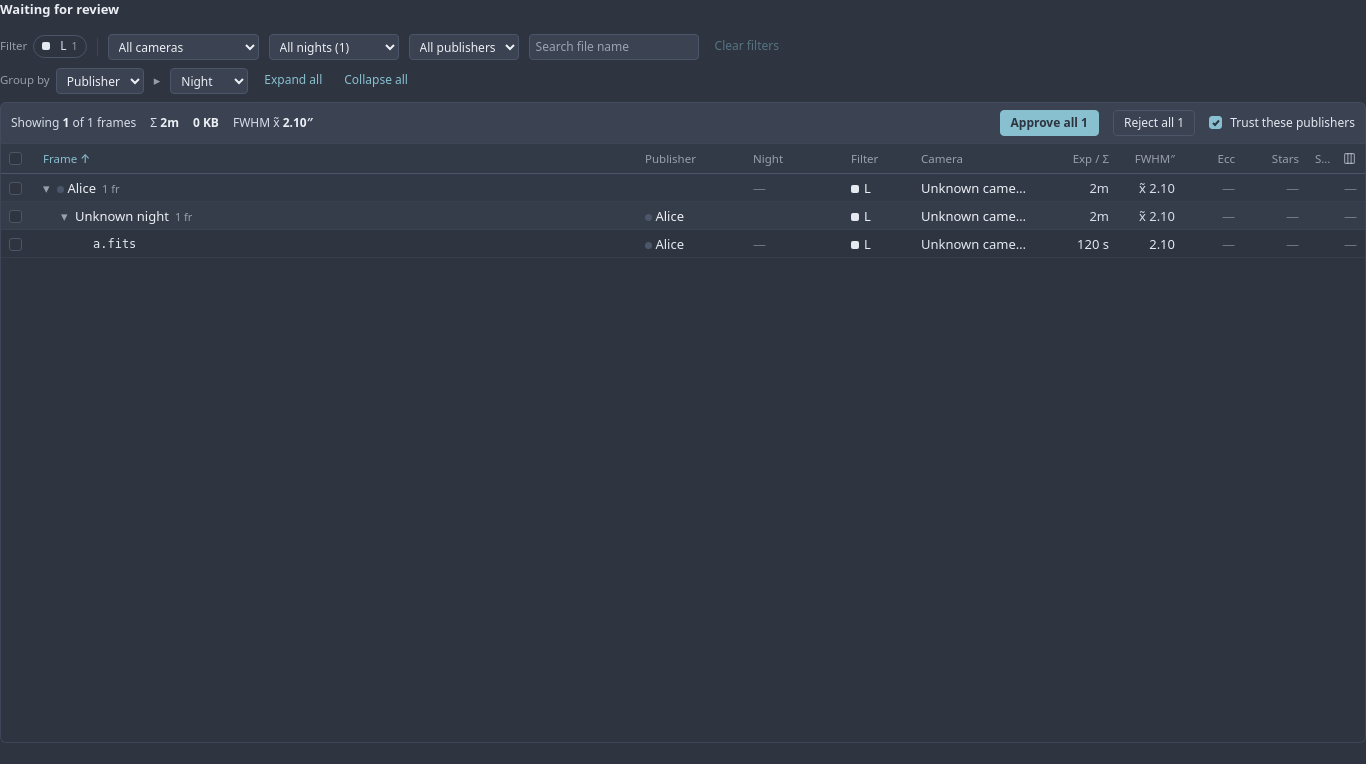
ModerationTab — mockup layout › reject opens a DialogShell dialog whose reason field takes the initial focus
This screenshot has width=1366, height=764.
Step 1. Click the button "Reject all 1" → x=1154, y=123, box [1113, 110, 1195, 136]
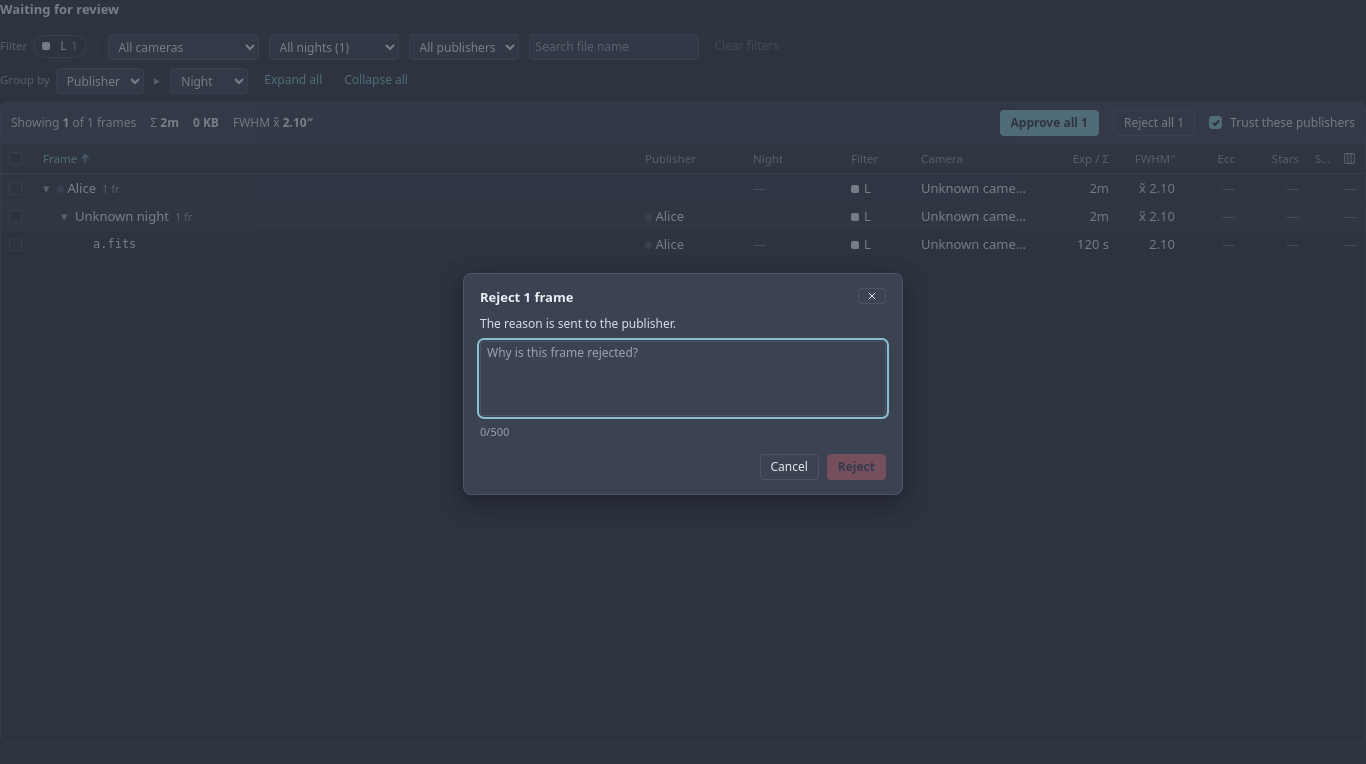
Now the dialog "Reject" is shown, box [463, 273, 903, 496]
